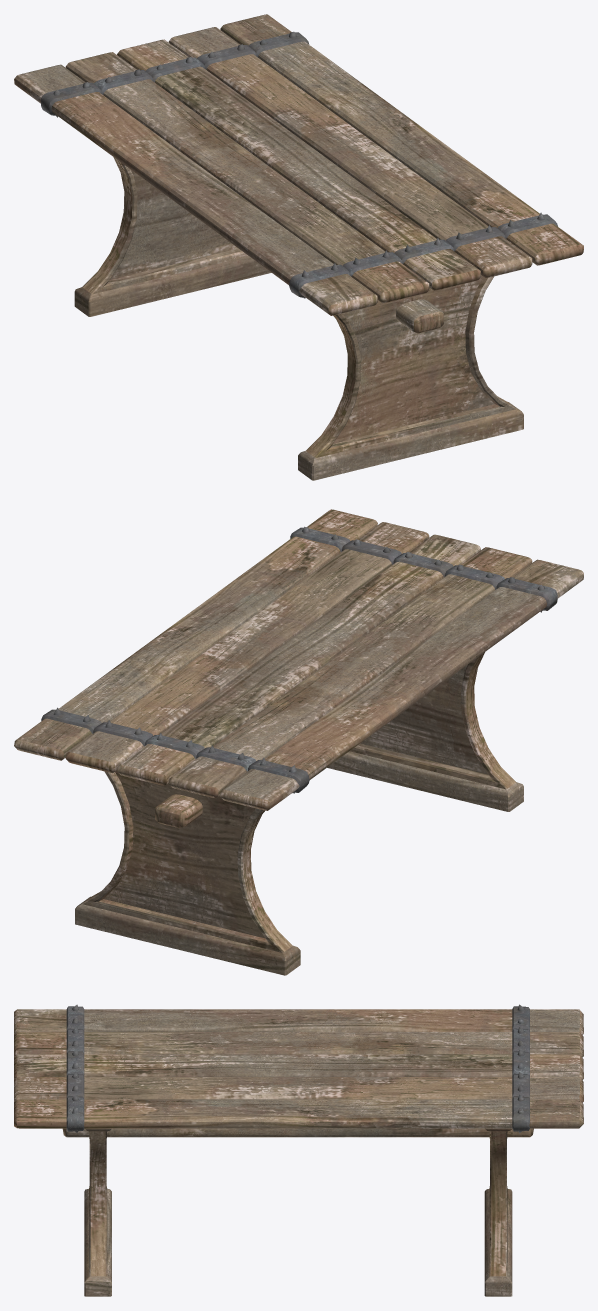
Rendered from SM_Table_Rectangle.fbx.
3 views of the same model, one above another, from view 1: azimuth 30°, elevation 25°; view 2: azimuth 150°, elevation 25°; view 3: azimuth 270°, elevation 25° (orthographic). The views are drawn at different scales.
Parts seen in each view (by area): view 1: SM_Table_Rectangle_LOD0; view 2: SM_Table_Rectangle_LOD0; view 3: SM_Table_Rectangle_LOD0.
Boxes of the visible parts, x1=… form: SM_Table_Rectangle_LOD0: x1=14, y1=14, x2=583, y2=480; SM_Table_Rectangle_LOD0: x1=14, y1=509, x2=583, y2=975; SM_Table_Rectangle_LOD0: x1=14, y1=1004, x2=583, y2=1296.
Size of the model in its own units: 103 by 218 by 81.94.
2 materials, 2 textured.
